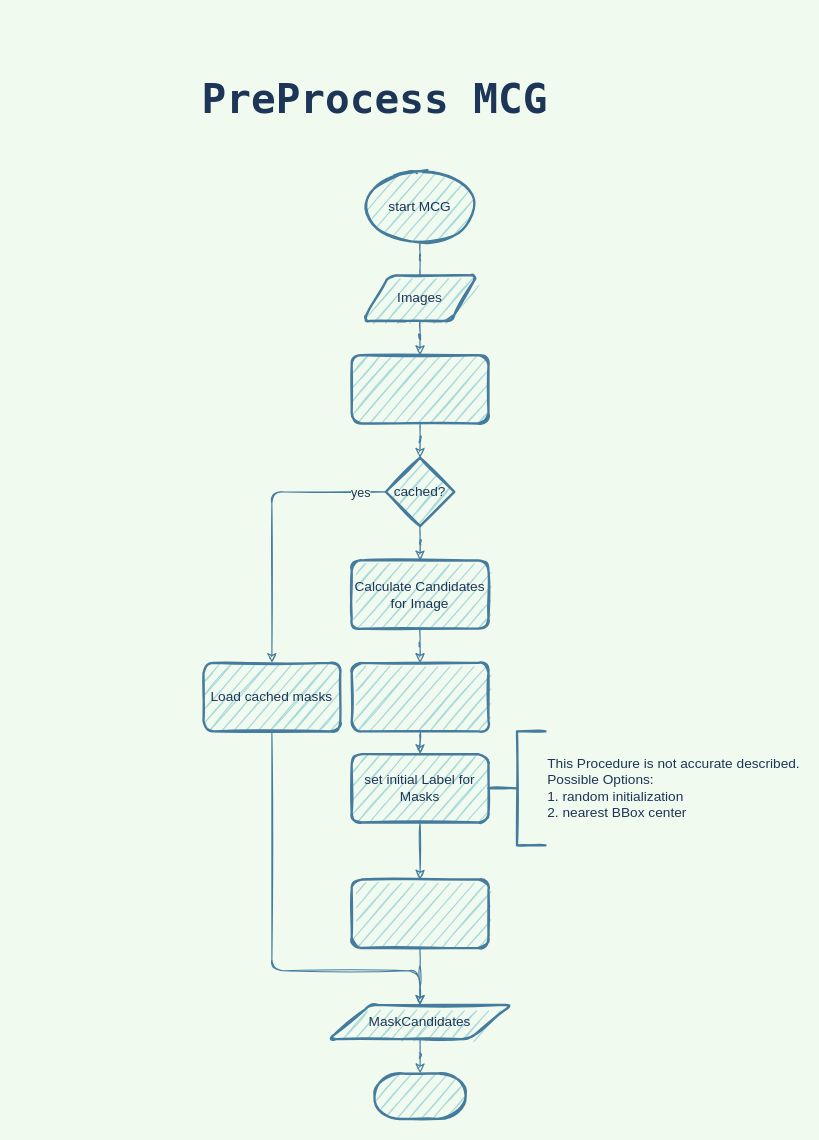
This 819x1140 diagram has some shape labels left out. Here are the shapes that lost their labels. From the top down, the centre of each, then its label:
At (419,388): "pop image".
At (419,696): "Create Masks for Candidates".
At (419,913): "Cache calculated Maks".
At (419,1095): "finish".
